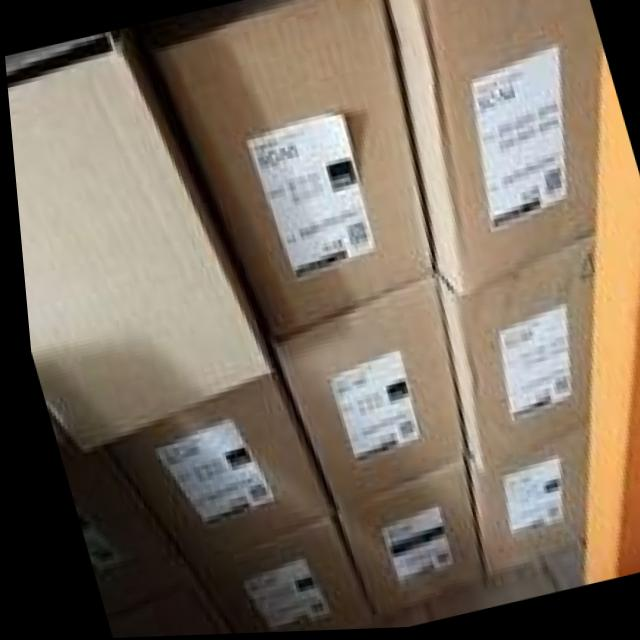box: (5, 39, 266, 457), (143, 0, 428, 350), (385, 0, 600, 299), (268, 275, 455, 517), (103, 374, 324, 575), (431, 236, 591, 480), (324, 458, 475, 617), (182, 517, 372, 635), (460, 430, 581, 581)
